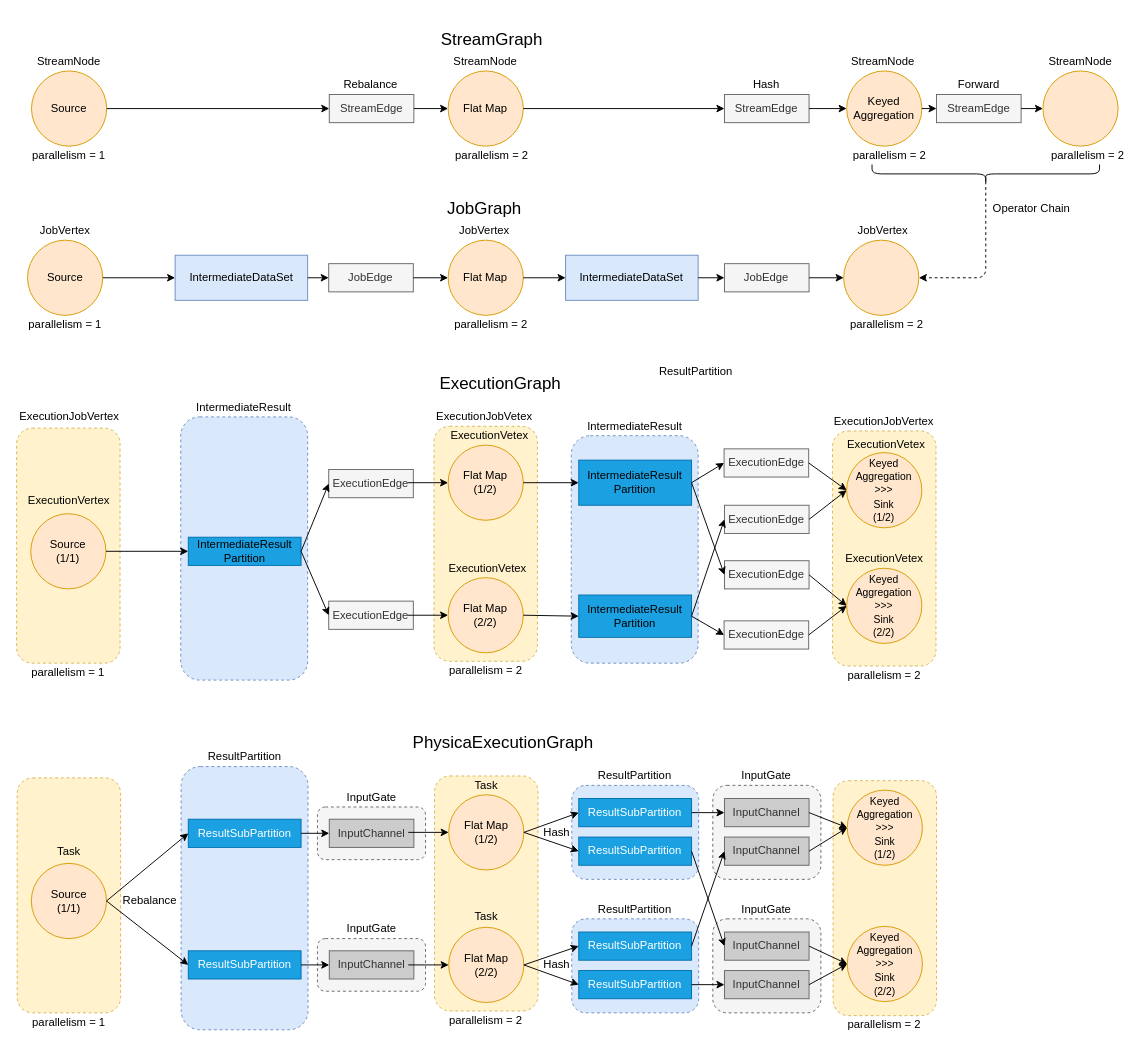
Some shapes in this 1142 by 1050 pixel diagram are drawn without their labels. The centre of each missing label's shape, as x and y in pixels:
Keyed Aggregation >>> Sink: the point at 881,277
Sink: the point at 1080,108
